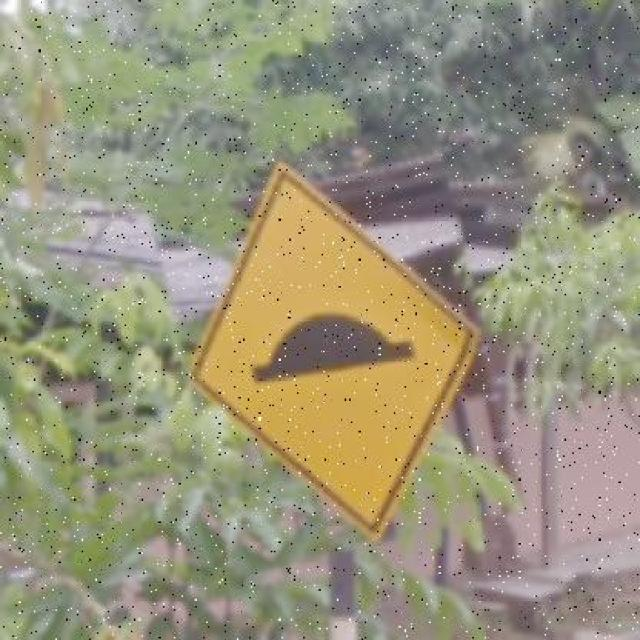Polisi Tidur: (165, 137, 506, 563)
